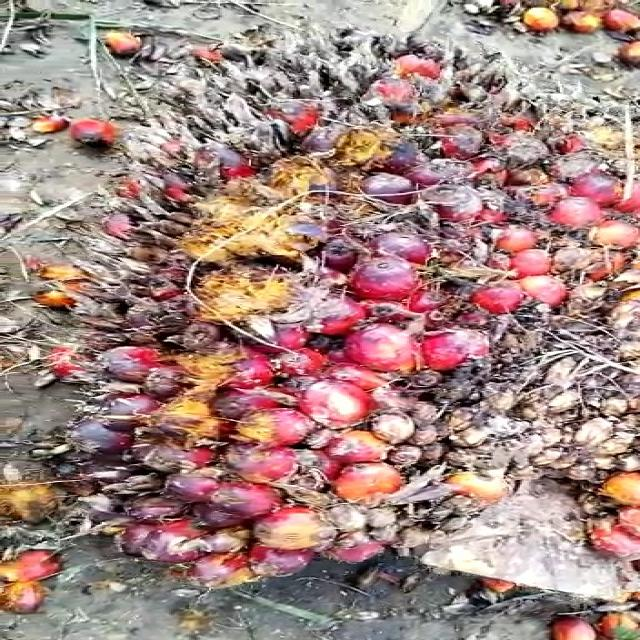palm oil: (52, 19, 640, 610)
